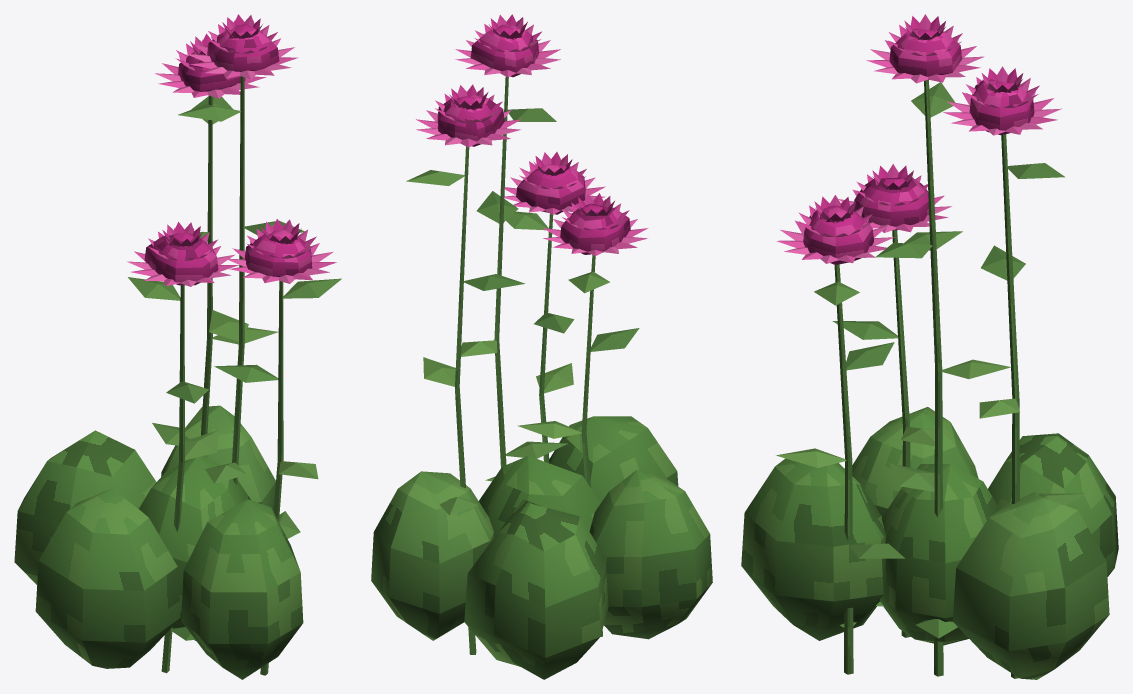
File: f_dahlia.glb
The picture shows the model from 3 angles, left to right: view 1: azimuth 30°, elevation 25°; view 2: azimuth 150°, elevation 25°; view 3: azimuth 270°, elevation 25°; orthographic projection. The views are drawn at different scales.
Parts seen in each view (by area): view 1: f_dahlia_mesh; view 2: f_dahlia_mesh; view 3: f_dahlia_mesh.
Boxes of the visible parts, left/top/right/bottom form: f_dahlia_mesh: left=14, top=14, right=341, bottom=679; f_dahlia_mesh: left=371, top=14, right=712, bottom=679; f_dahlia_mesh: left=741, top=14, right=1118, bottom=679.
Size of the model in its own units: 0.5066 by 1.09 by 0.5651.
1 material, 1 textured.
